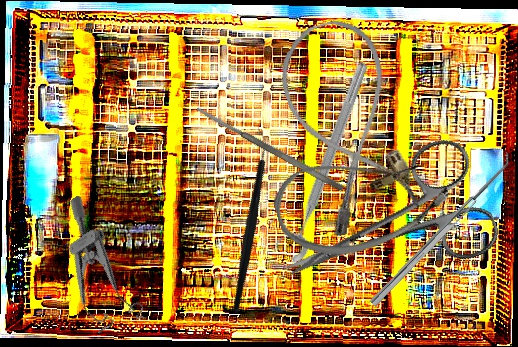Cannula: (268, 10, 426, 240), (265, 127, 458, 273)
Chopper: (172, 127, 324, 314)
Fixation Ring: (269, 54, 375, 267)
Iris Scissors: (263, 131, 505, 324)
Spatula Surgical: (363, 149, 517, 308), (195, 104, 345, 193)
Speculum: (28, 194, 157, 345)
